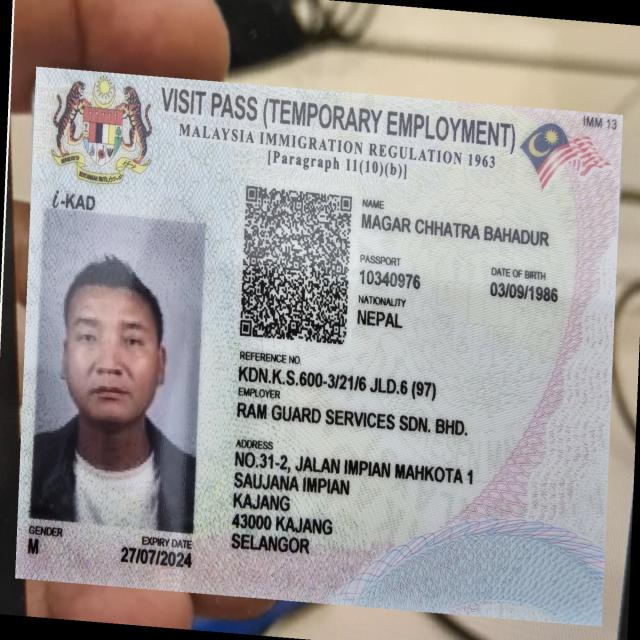ikad-temp: (14, 64, 624, 629)
